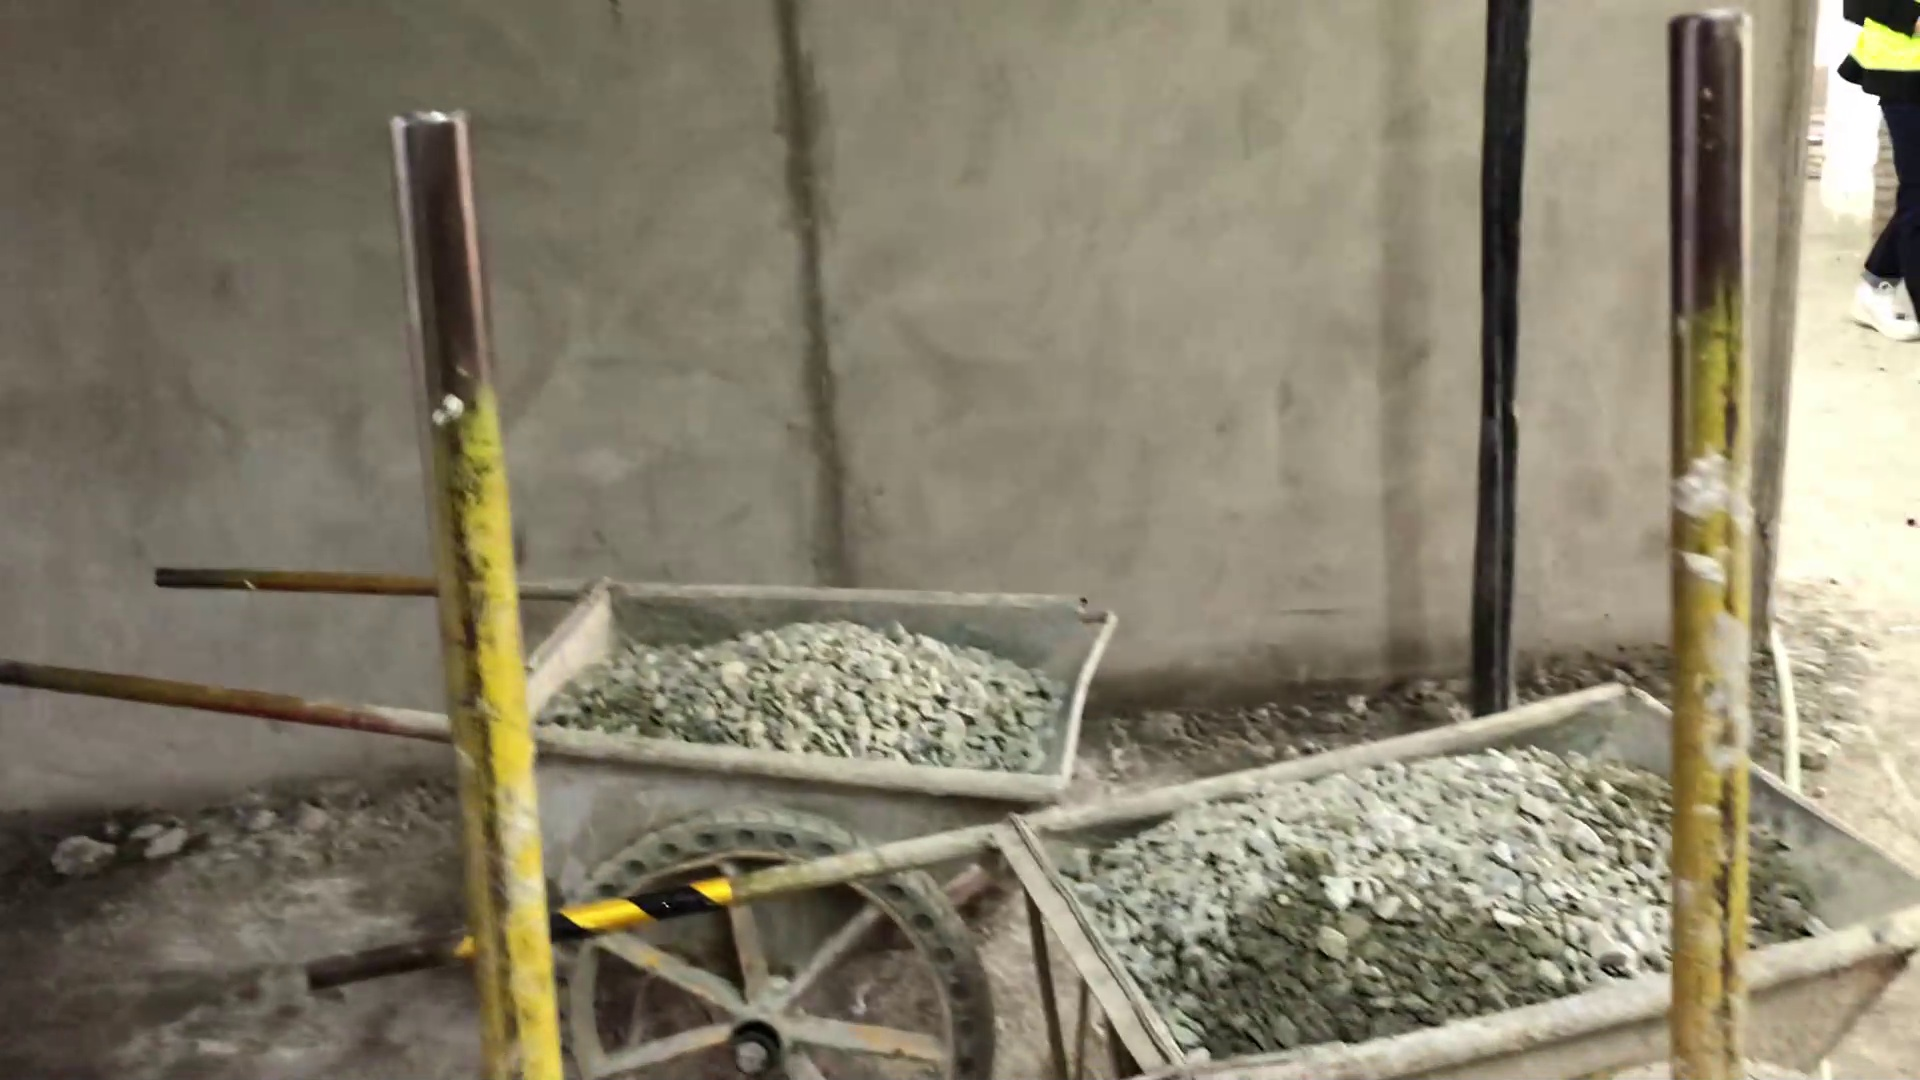handcart: (351, 702, 1909, 1080), (73, 536, 1121, 1063)
person: (1828, 1, 1920, 334)
vest: (1837, 12, 1920, 71)
